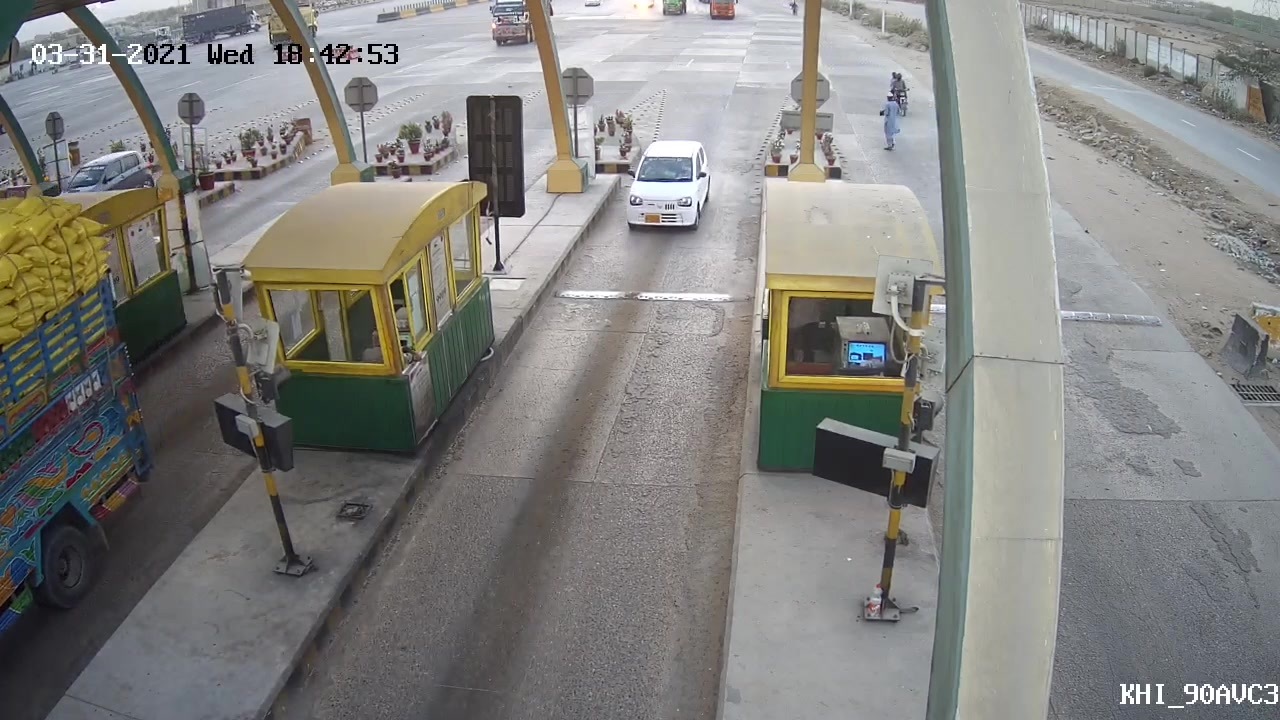F1: (615, 133, 719, 238)
